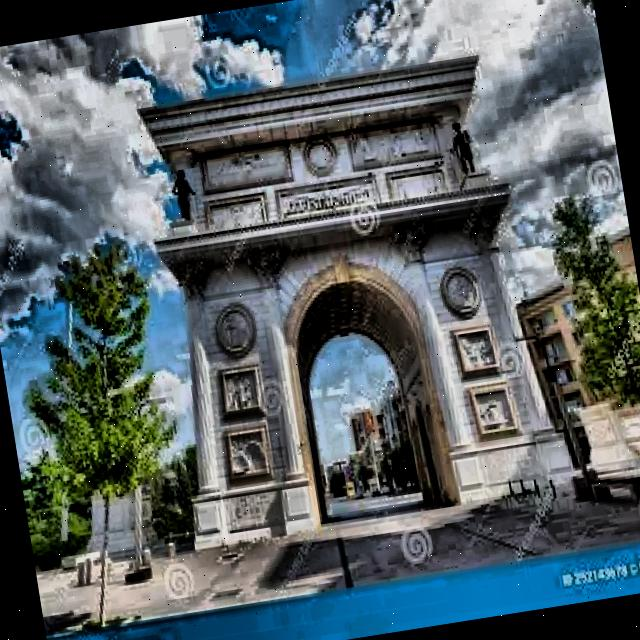triumphal arch: (126, 24, 588, 556)
